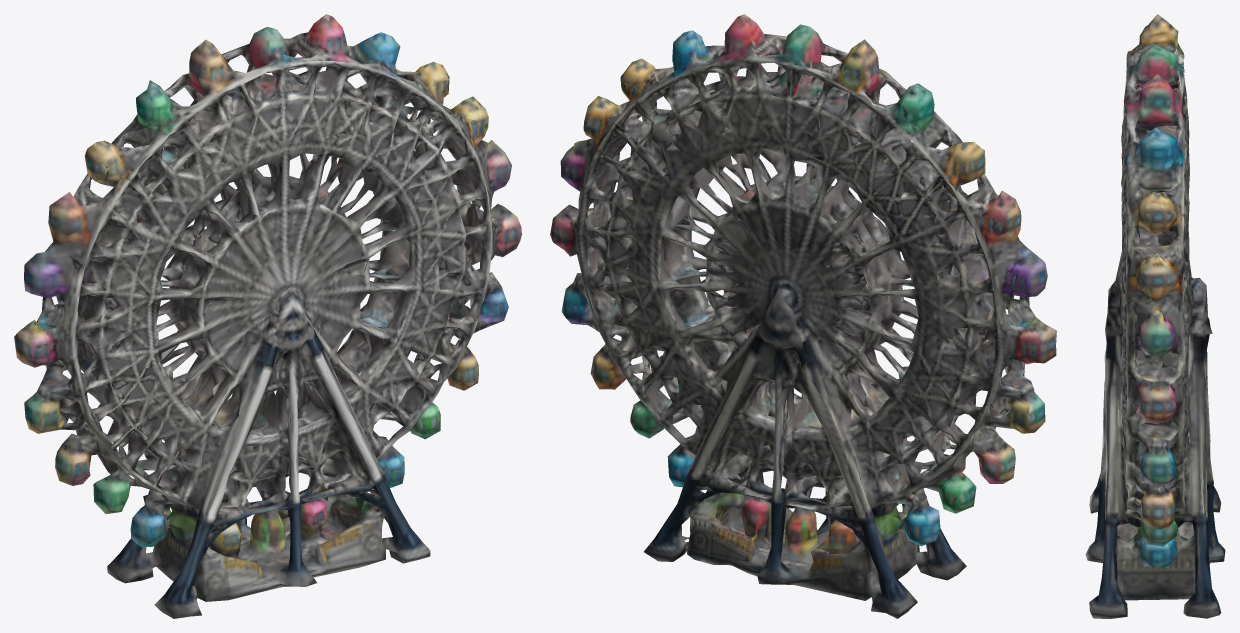
The model's file is 롯데_대관람차.glb.
3 views of the same model, side by side, from view 1: azimuth 30°, elevation 25°; view 2: azimuth 150°, elevation 25°; view 3: azimuth 270°, elevation 25° (orthographic). The views are drawn at different scales.
Visible parts, largest first — view 1: texture_mapping; view 2: texture_mapping; view 3: texture_mapping.
Boxes of the visible parts, x1,y1,x2,y2 form: texture_mapping: (14,14,521,618); texture_mapping: (550,14,1056,618); texture_mapping: (1085,14,1225,618).
Size of the model in its own units: 0.9778 by 1.01 by 0.2478.
Materials: 1 (1 with a texture image).
